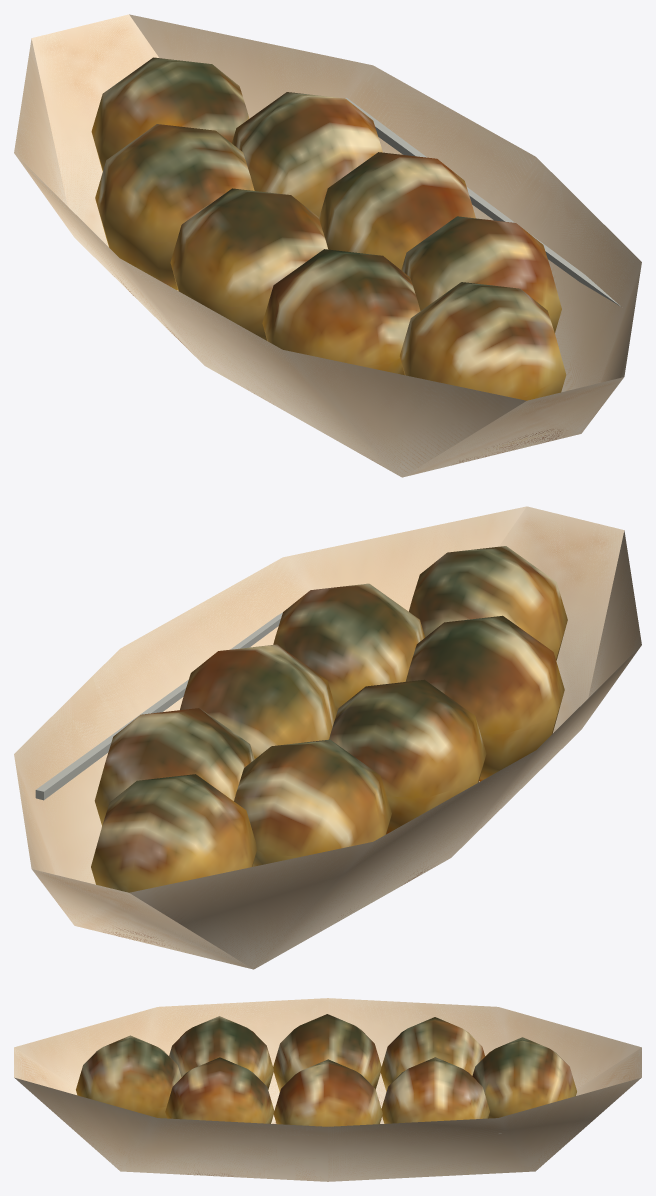
The model's file is jsf_BoatPlate_TakoyakiSet01.fbx.
The picture shows the model from 3 angles, top to bottom: view 1: azimuth 30°, elevation 25°; view 2: azimuth 150°, elevation 25°; view 3: azimuth 270°, elevation 25°; orthographic projection. The views are drawn at different scales.
Visible parts, largest first — view 1: BoatPlate, Takoyaki_07, Takoyaki_01, Takoyaki_05, Takoyaki_03, Takoyaki_04, Takoyaki_06, Takoyaki_08, Takoyaki_02, Skewer_A; view 2: BoatPlate, Takoyaki_03, Takoyaki_08, Takoyaki_05, Takoyaki_07, Takoyaki_02, Takoyaki_04, Takoyaki_01, Takoyaki_06, Skewer_A; view 3: BoatPlate, Takoyaki_01, Takoyaki_08, Takoyaki_04, Takoyaki_06, Takoyaki_02, Takoyaki_05, Takoyaki_03, Takoyaki_07.
Part boxes in pixels (x1,y1,x2,y2): BoatPlate: [14, 14, 641, 477]; Takoyaki_07: [95, 124, 254, 290]; Takoyaki_01: [399, 282, 566, 400]; Takoyaki_05: [170, 188, 328, 340]; Takoyaki_03: [262, 249, 420, 375]; Takoyaki_04: [319, 152, 475, 269]; Takoyaki_06: [232, 92, 382, 217]; Takoyaki_08: [91, 57, 249, 171]; Takoyaki_02: [401, 216, 561, 332]; Skewer_A: [345, 98, 620, 306]; BoatPlate: [14, 506, 641, 969]; Takoyaki_03: [405, 615, 564, 781]; Takoyaki_08: [91, 774, 256, 892]; Takoyaki_05: [329, 679, 486, 833]; Takoyaki_07: [234, 739, 391, 866]; Takoyaki_02: [273, 583, 424, 712]; Takoyaki_04: [180, 644, 336, 758]; Takoyaki_01: [409, 546, 567, 660]; Takoyaki_06: [94, 708, 254, 825]; Skewer_A: [35, 612, 282, 800]; BoatPlate: [14, 998, 641, 1181]; Takoyaki_01: [76, 1035, 181, 1118]; Takoyaki_08: [472, 1037, 576, 1118]; Takoyaki_04: [273, 1059, 382, 1126]; Takoyaki_06: [381, 1057, 489, 1123]; Takoyaki_02: [165, 1057, 274, 1123]; Takoyaki_05: [273, 1014, 381, 1092]; Takoyaki_03: [169, 1016, 273, 1089]; Takoyaki_07: [380, 1017, 485, 1091].
Size of the model in its own units: 10.18 by 3.81 by 21.
